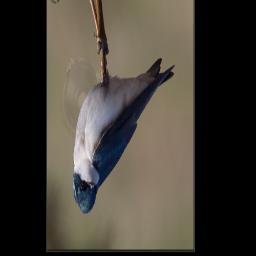Swallow: (72, 58, 176, 215)
